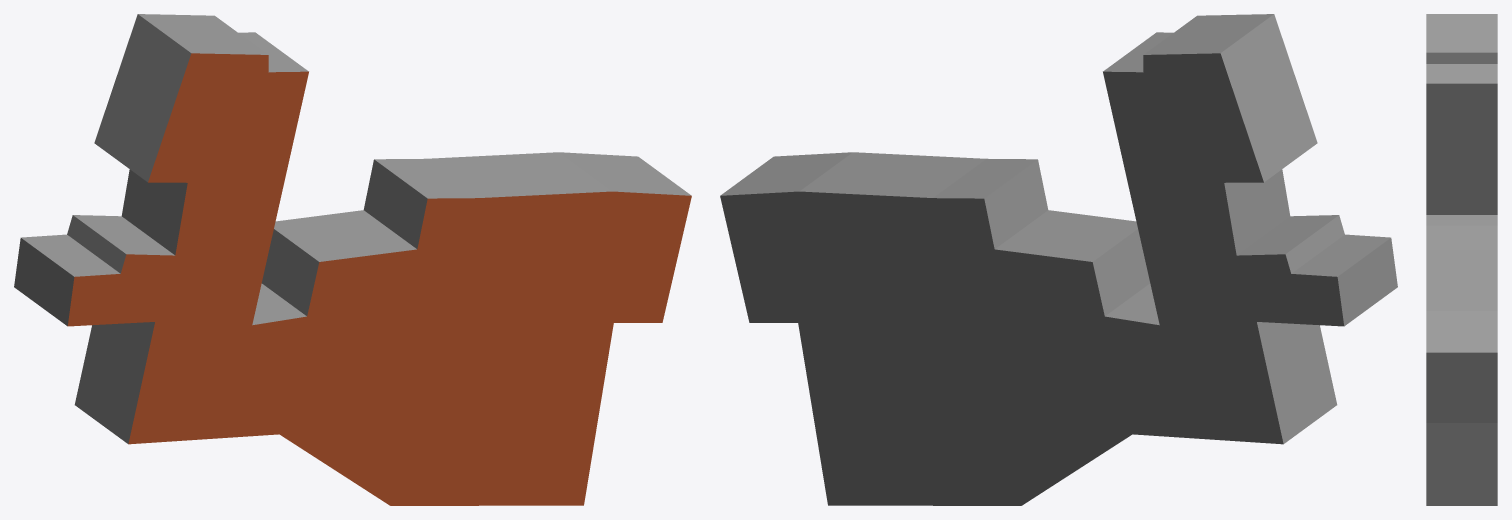
The model's file is construction_7115_assumed_A_Casa_h6m.obj.
3 views of the same model, side by side, from view 1: azimuth 30°, elevation 25°; view 2: azimuth 150°, elevation 25°; view 3: azimuth 270°, elevation 25° (orthographic). The views are drawn at different scales.
Visible parts, largest first — view 1: construction_7115_assumed_A_Casa; view 2: construction_7115_assumed_A_Casa; view 3: construction_7115_assumed_A_Casa.
Part boxes in pixels (box(x1,y1,x2,y2)): construction_7115_assumed_A_Casa: box(14, 14, 691, 505); construction_7115_assumed_A_Casa: box(720, 14, 1397, 505); construction_7115_assumed_A_Casa: box(1426, 14, 1497, 505).
Size of the model in its own units: 40.26 by 33.78 by 6.
